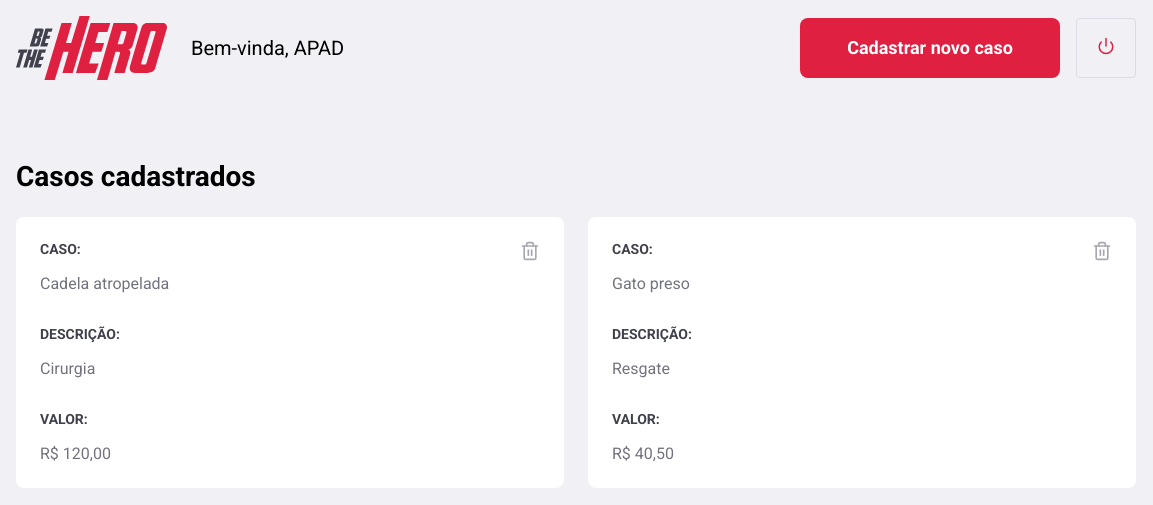
Scenario: Profile › lists the NGO’s incidents and deletes one
This screenshot has width=1153, height=505.
Expected: the text "Cadela atropelada" is shown, [40,274,169,293]
Expected: the text "R$ 40,50" is shown, [612,444,674,463]
Click the button named "Apagar caso Gato preso" at (1102, 253), box [1092,241,1112,265]
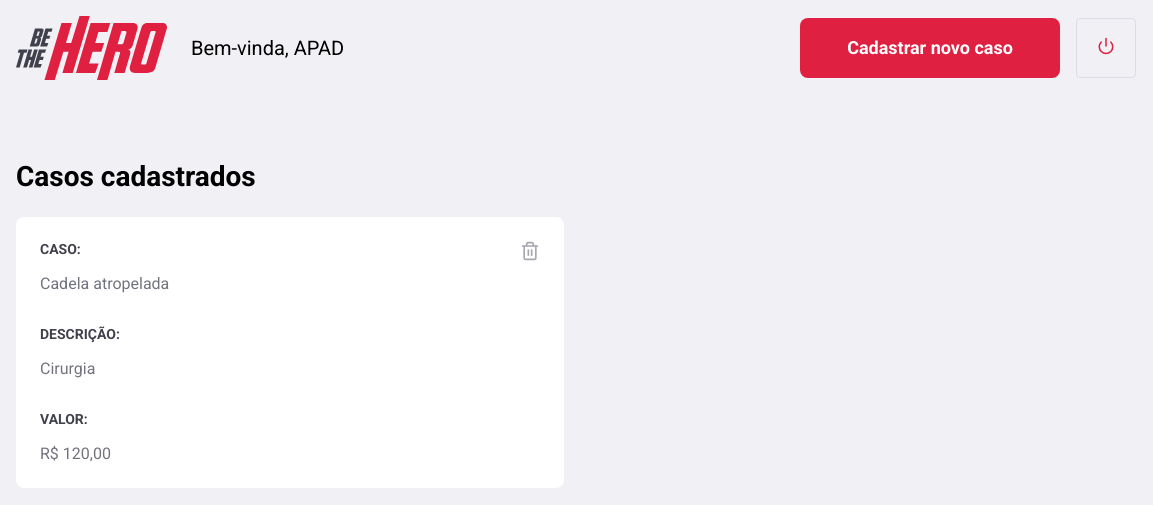
Now the text "Gato preso" is gone
